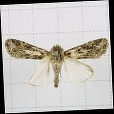Spodoptera litura: (5, 36, 110, 88)
